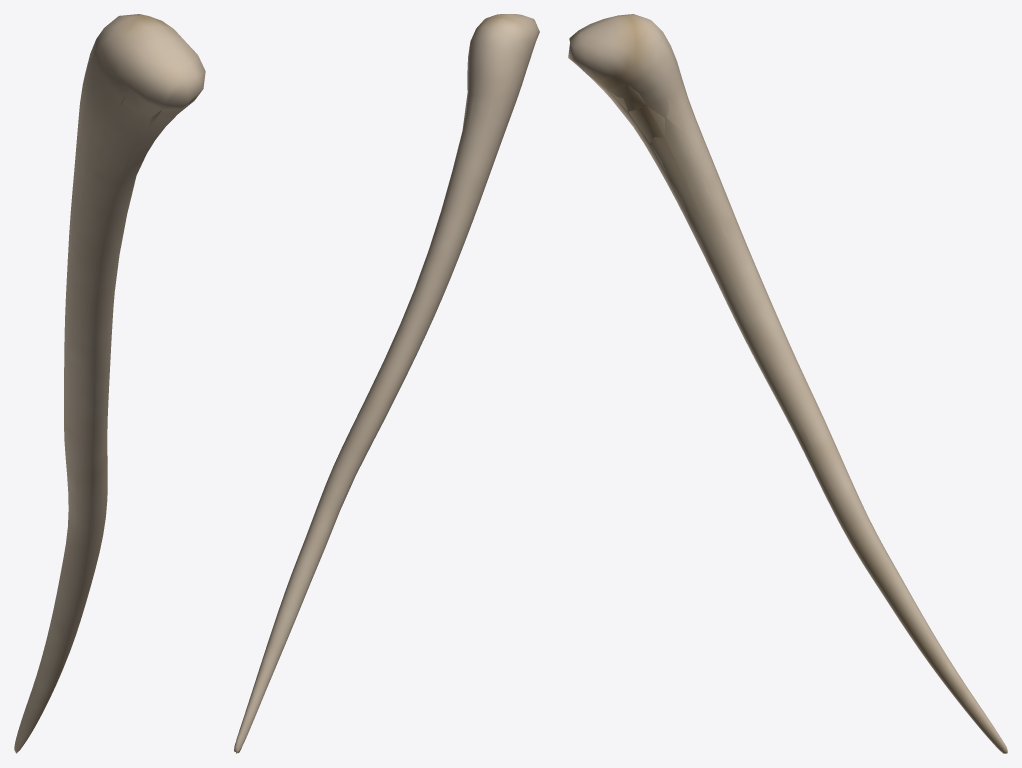
File: R Fibula.fbx
The picture shows the model from 3 angles, left to right: view 1: azimuth 30°, elevation 25°; view 2: azimuth 150°, elevation 25°; view 3: azimuth 270°, elevation 25°; orthographic projection. The views are drawn at different scales.
Visible parts, largest first — view 1: R Fibula, R Fibula low; view 2: R Fibula, R Fibula low; view 3: R Fibula, R Fibula low.
Boxes of the visible parts, left/top/right/bottom form: R Fibula: left=14, top=14, right=205, bottom=753; R Fibula low: left=31, top=39, right=172, bottom=709; R Fibula: left=234, top=14, right=539, bottom=753; R Fibula low: left=235, top=54, right=531, bottom=752; R Fibula: left=568, top=14, right=1007, bottom=753; R Fibula low: left=587, top=31, right=1004, bottom=746.
Bounding box in the file's own units: 4.42 × 22.47 × 13.
1 material, 1 textured.
